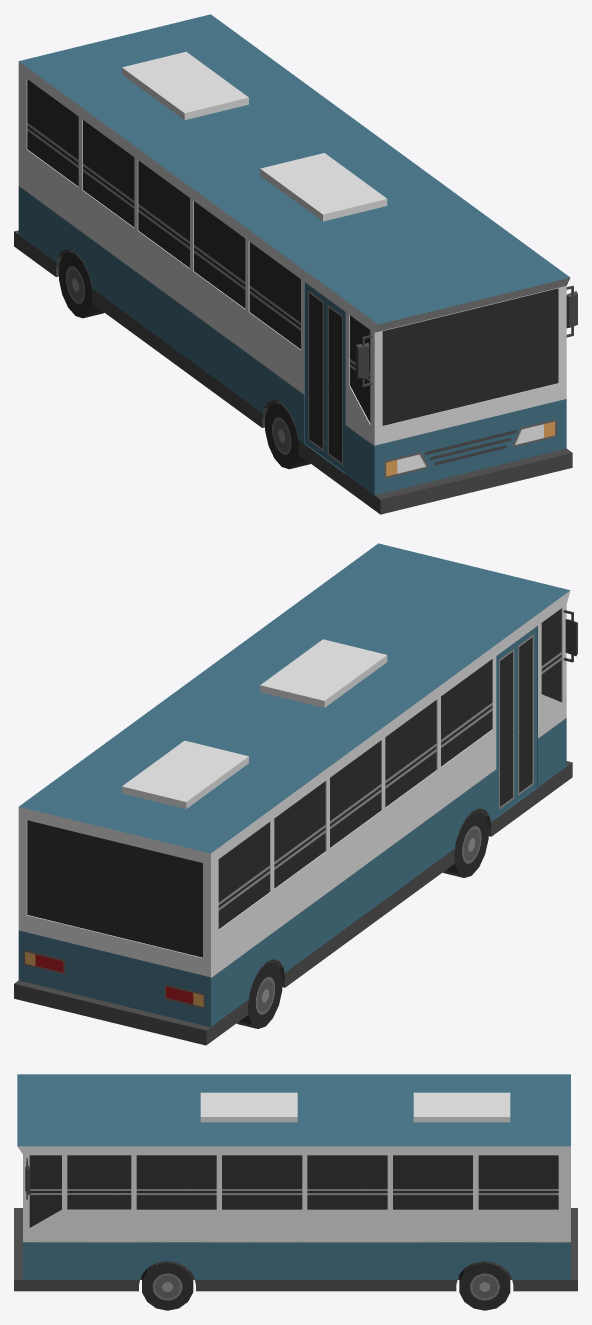
File: Car_BlueBus.glb
3 renders of one model, top to bottom at view 1: azimuth 30°, elevation 25°; view 2: azimuth 150°, elevation 25°; view 3: azimuth 270°, elevation 25°, orthographic. The views are drawn at different scales.
Parts seen in each view (by area): view 1: Object_96.001; view 2: Object_96.001; view 3: Object_96.001.
Part boxes in pixels (left/top/right/bottom): Object_96.001: left=14, top=14, right=577, bottom=514; Object_96.001: left=14, top=543, right=577, bottom=1045; Object_96.001: left=14, top=1074, right=577, bottom=1310.
Size of the model in its own units: 3.68 by 3.52 by 10.57.
Materials: 1 (1 with a texture image).
